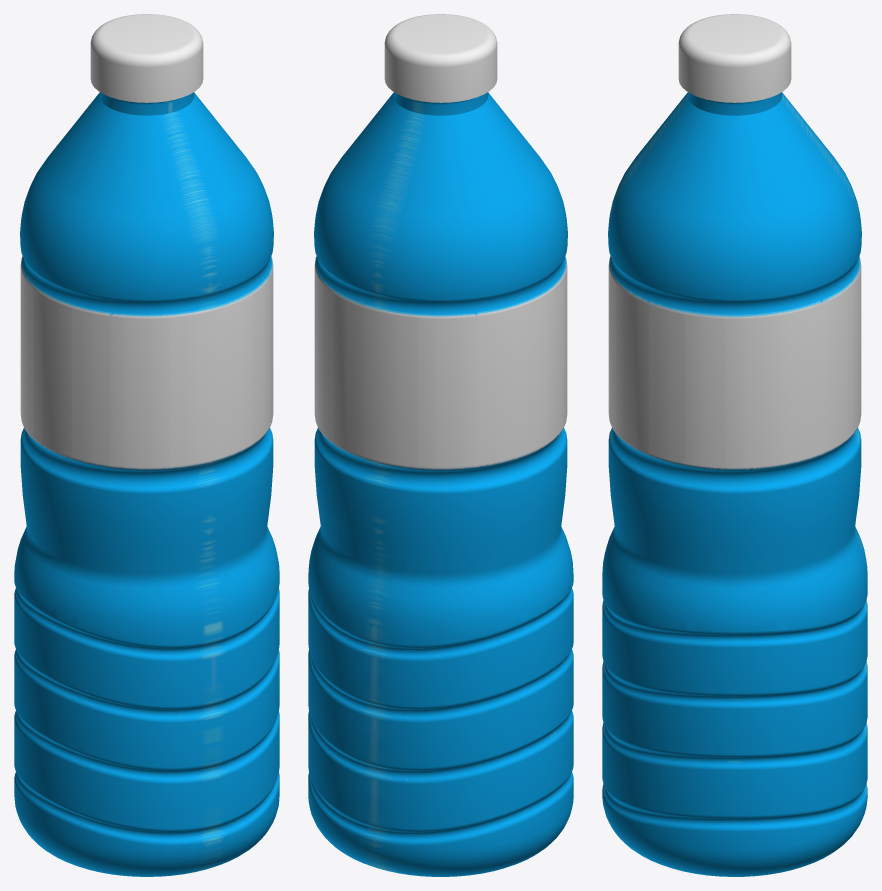
The picture shows the model from 3 angles, left to right: view 1: azimuth 30°, elevation 25°; view 2: azimuth 150°, elevation 25°; view 3: azimuth 270°, elevation 25°; orthographic projection.
Visible parts, largest first — view 1: node_id5; view 2: node_id5; view 3: node_id5.
Part boxes in pixels (<box>): node_id5: <box>14,14,279,876</box>; node_id5: <box>308,14,573,876</box>; node_id5: <box>602,14,867,876</box>.
Bounding box in the file's own units: 0.1546 × 0.512 × 0.1546.
Materials: 1 (1 with a texture image).
